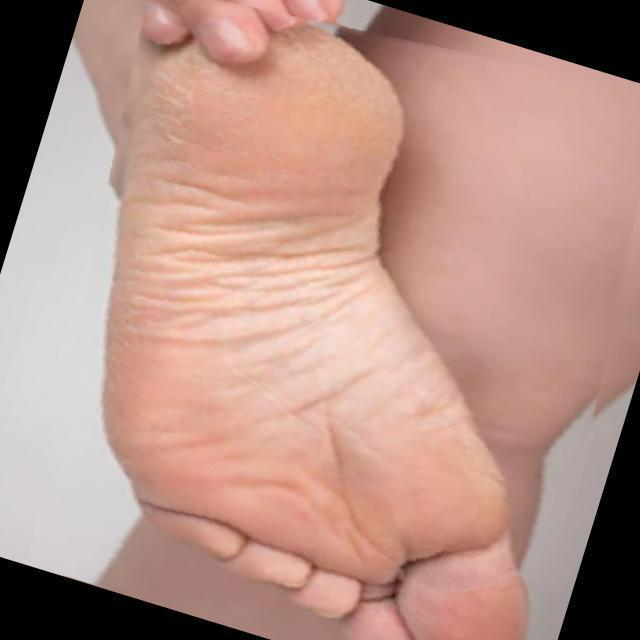No_Shoes: (87, 27, 595, 640)
